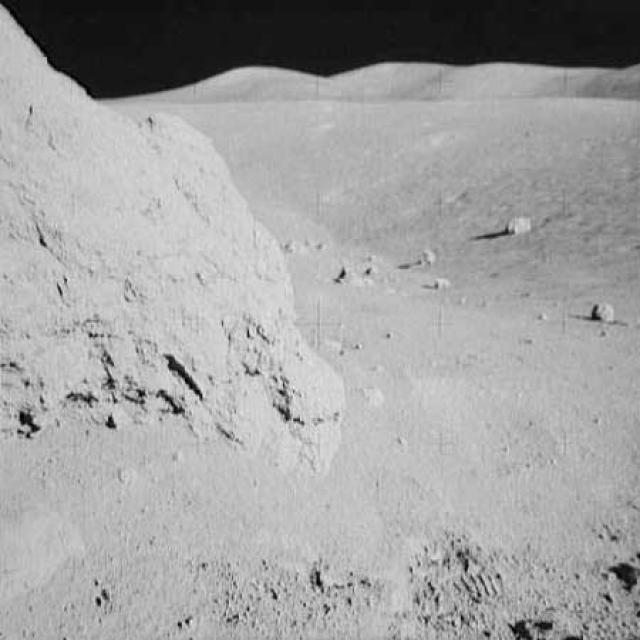rock: (581, 294, 620, 325), (503, 206, 531, 236), (332, 263, 356, 286), (434, 268, 451, 290), (419, 243, 433, 262), (364, 263, 377, 276)
